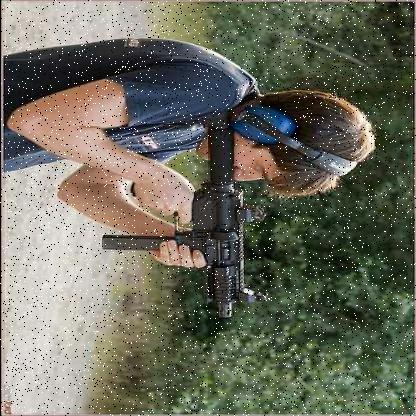rifle: (103, 91, 299, 325)
